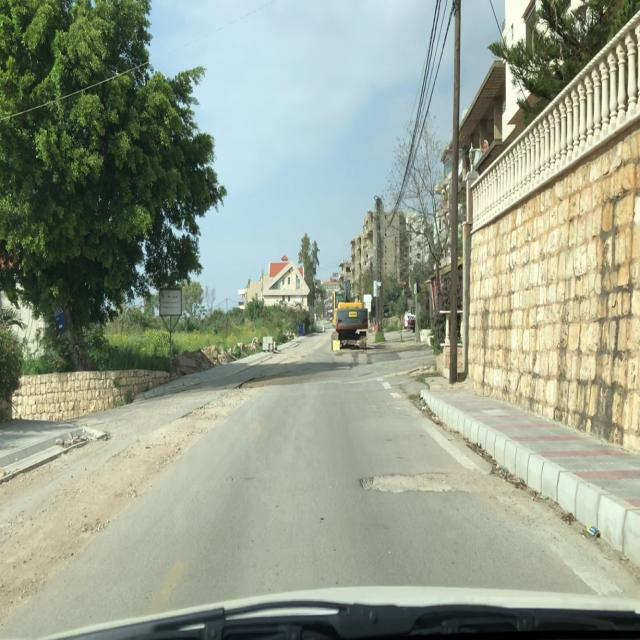Pothole: (358, 468, 498, 497)
